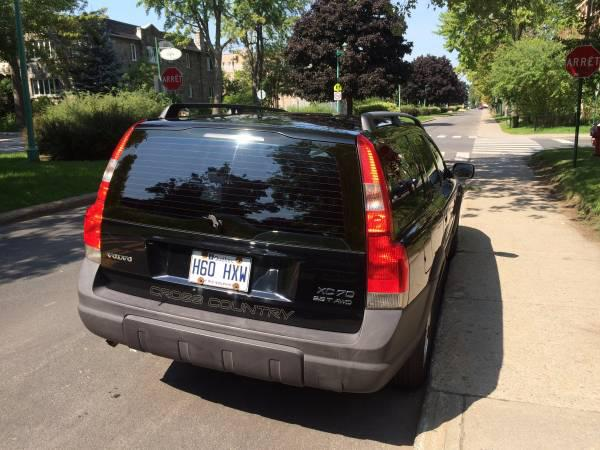volvo: (64, 85, 500, 407)
